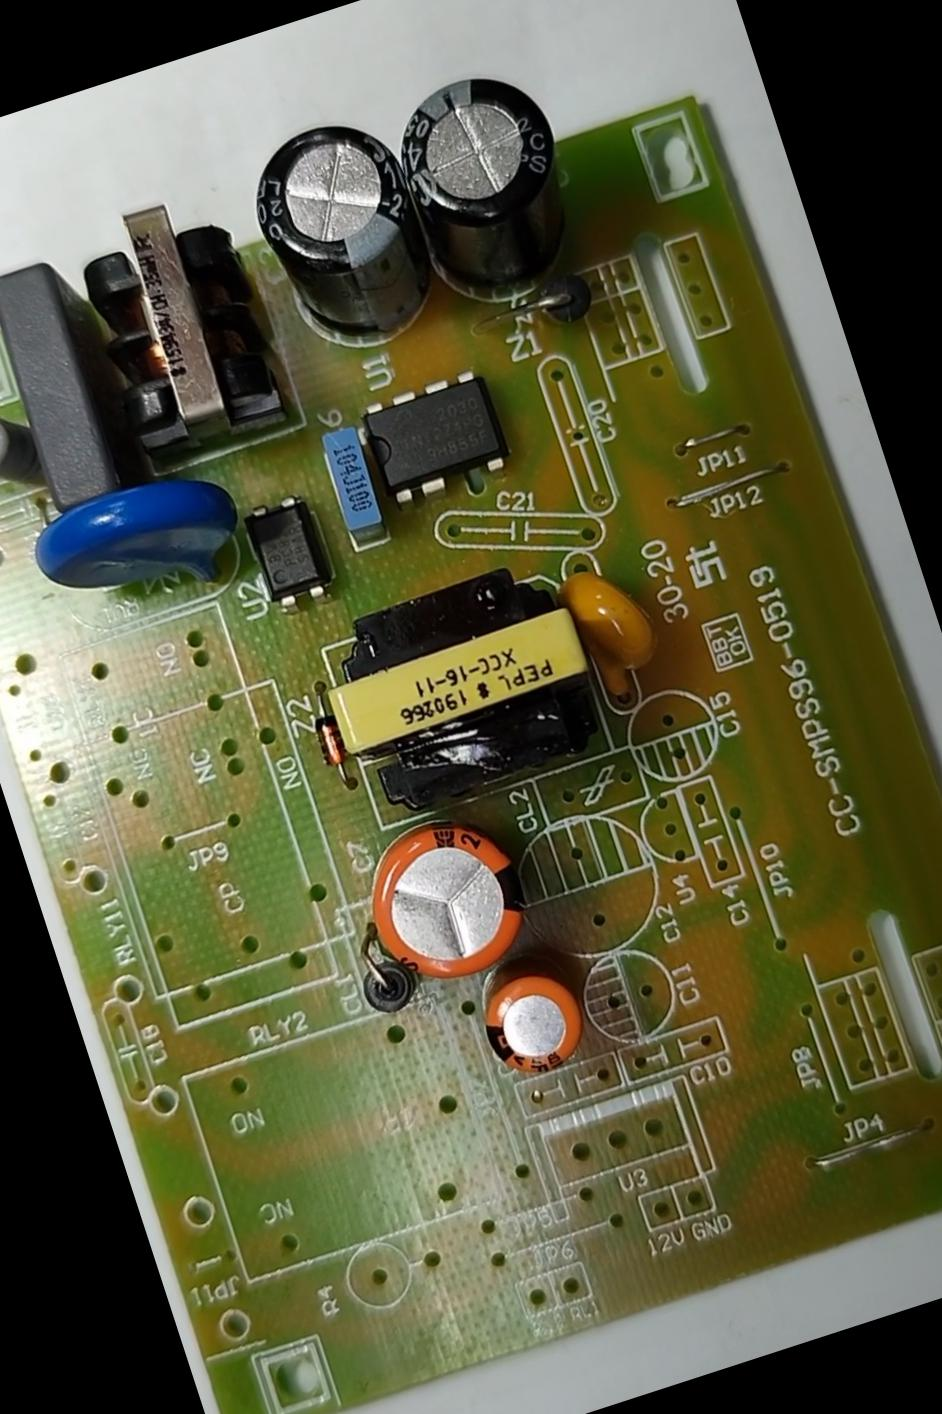Cap1: (333, 794, 553, 1005)
Cap2: (459, 936, 611, 1090)
Cap3: (226, 97, 457, 369)
Cap4: (365, 48, 607, 339)
MOSFET: (330, 349, 527, 526)
Mov: (15, 439, 282, 642)
Resistor: (0, 391, 49, 511)
Transformer: (294, 538, 646, 854), (61, 164, 313, 478)
